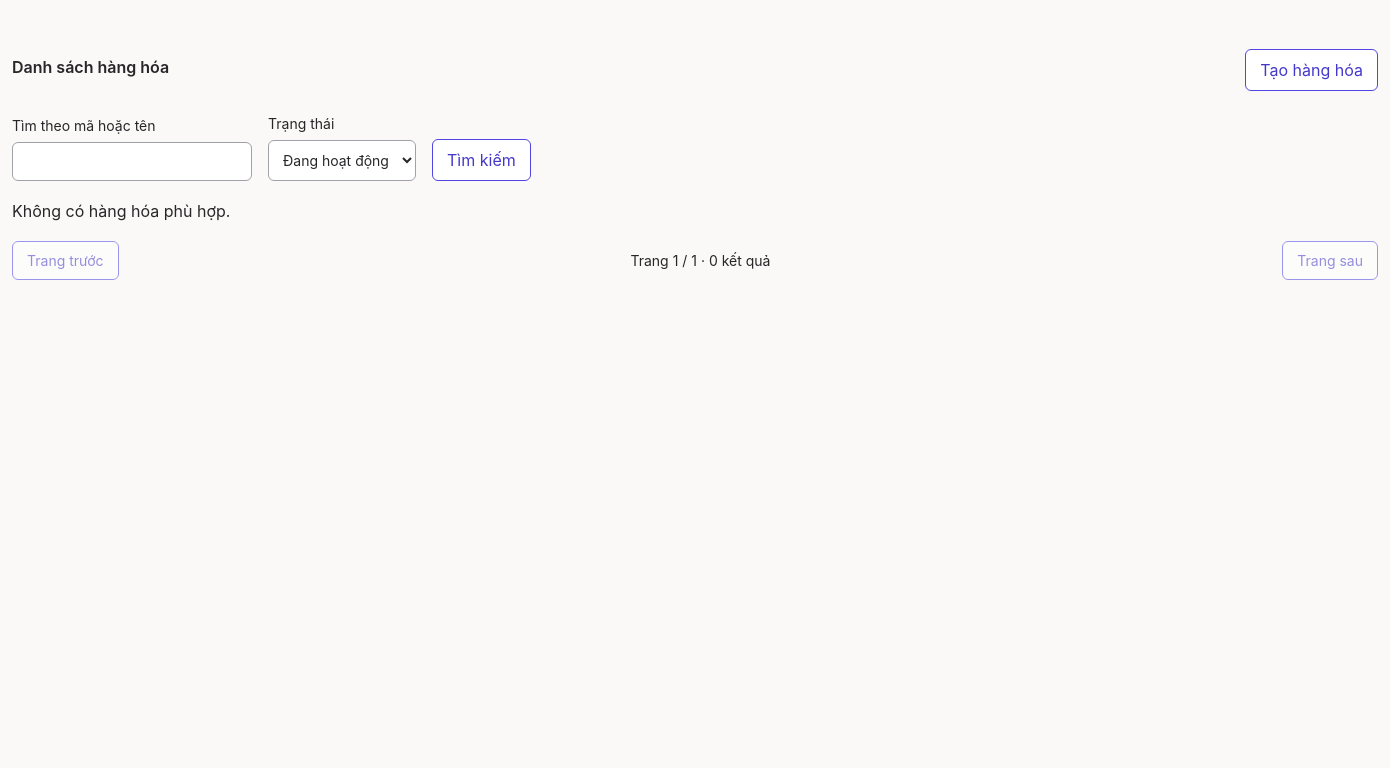
goods supports validation, create, duplicate-submit protection and refresh
Expected: the text "Không có hàng hóa phù hợp." is shown, [12,201,230,221]
Click the button "Tạo hàng hóa".
click(1312, 70)  # box [1245,49,1378,91]
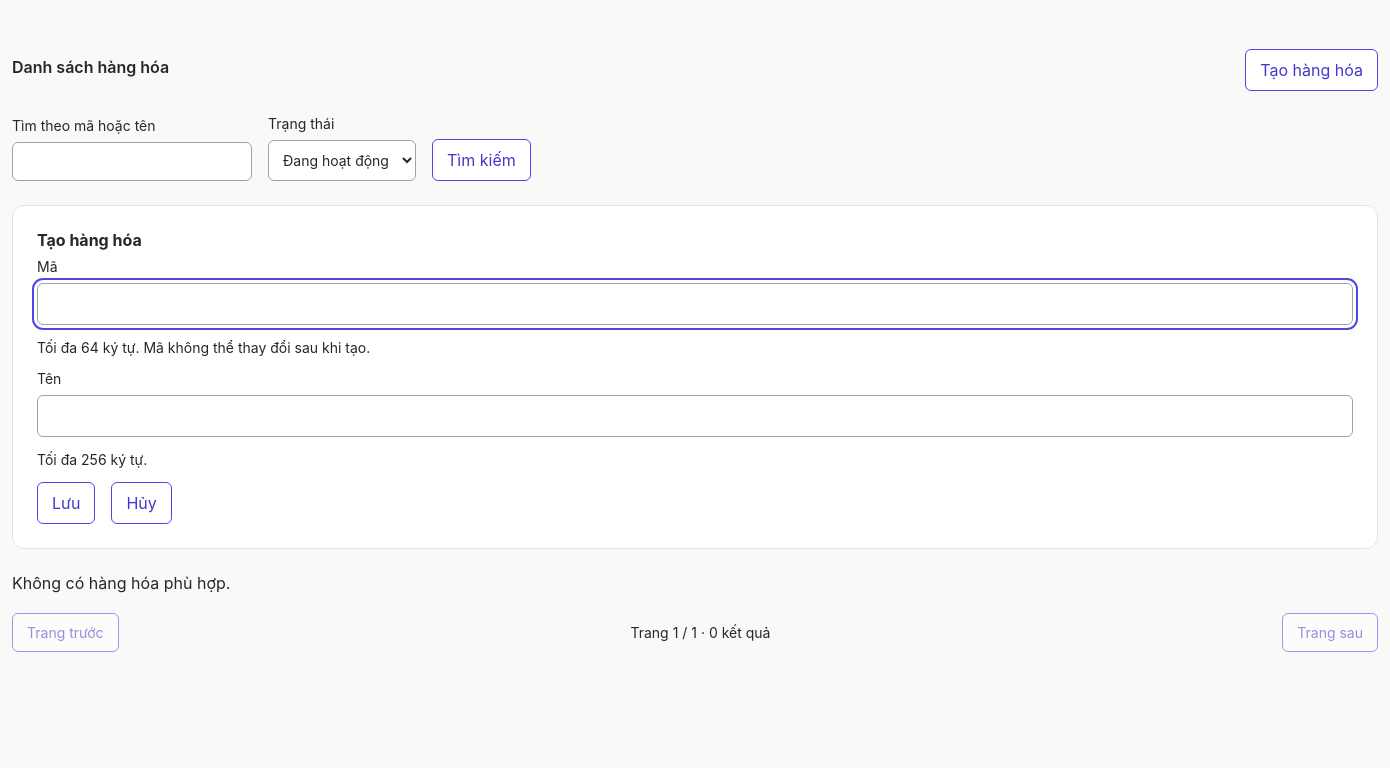
Click the button "Lưu".
click(66, 503)  # box [37,482,95,524]
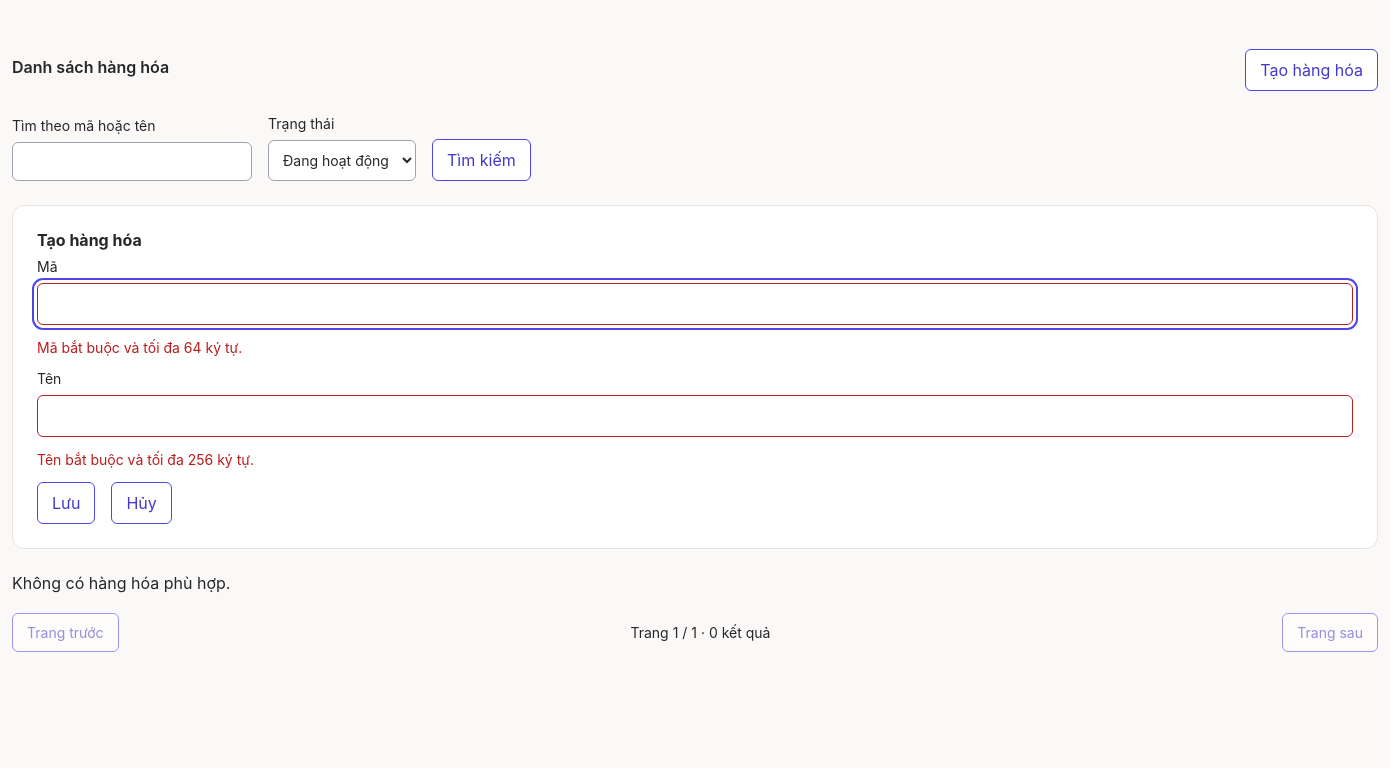
Type " A01 " into the field labelled "Mã".
click(695, 304); type(" A01 ")  # box [37,283,1353,325]
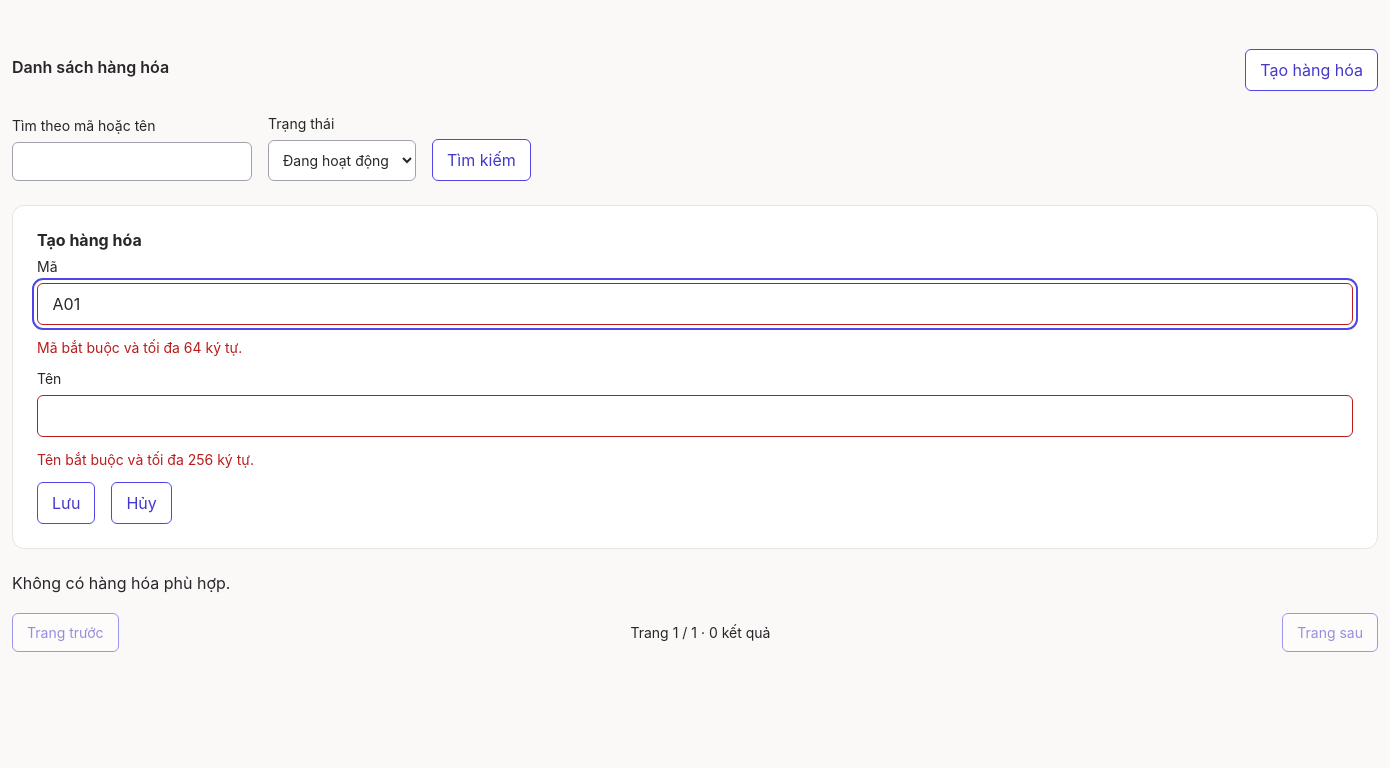
Type " Mặt hàng A " into the field labelled "Tên".
click(695, 416); type(" Mặt hàng A ")  # box [37,395,1353,437]
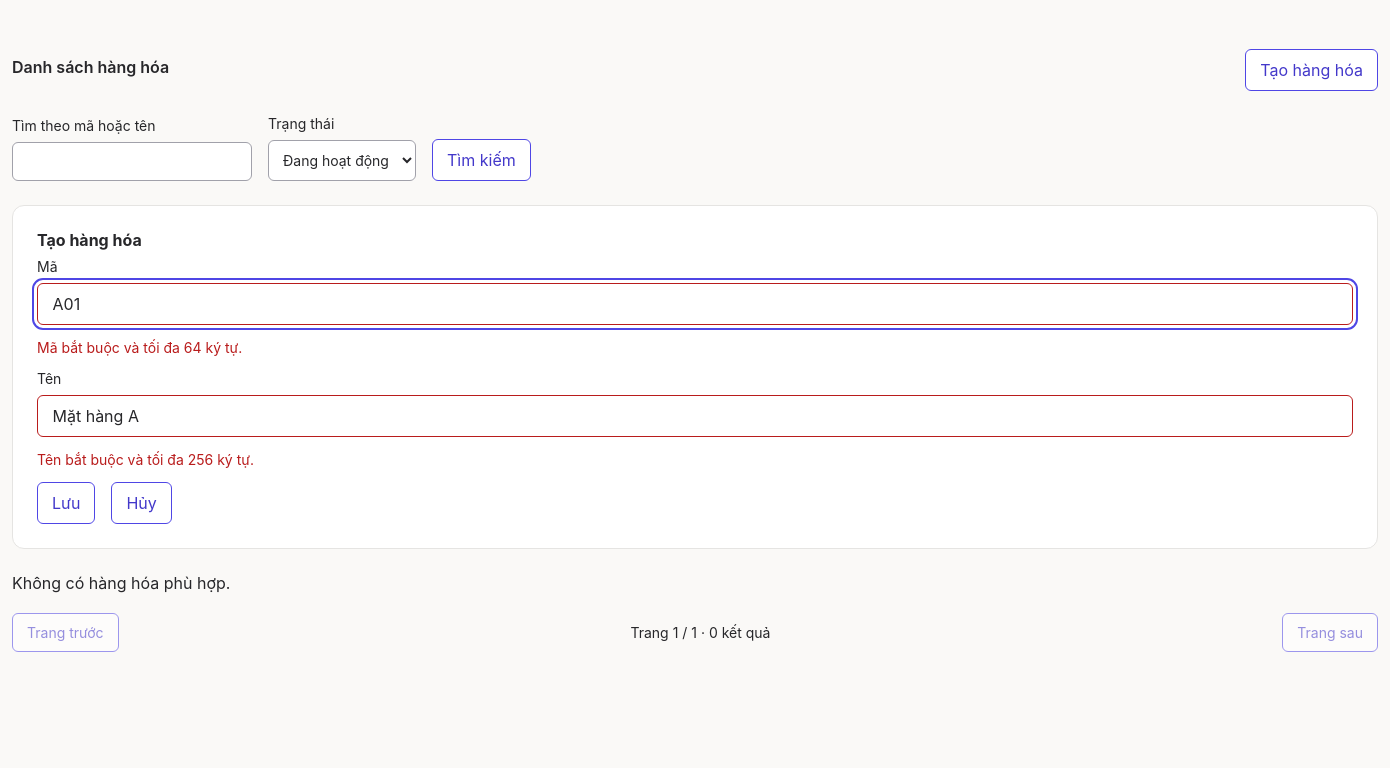
Click the button "Lưu".
click(66, 503)  # box [37,482,95,524]
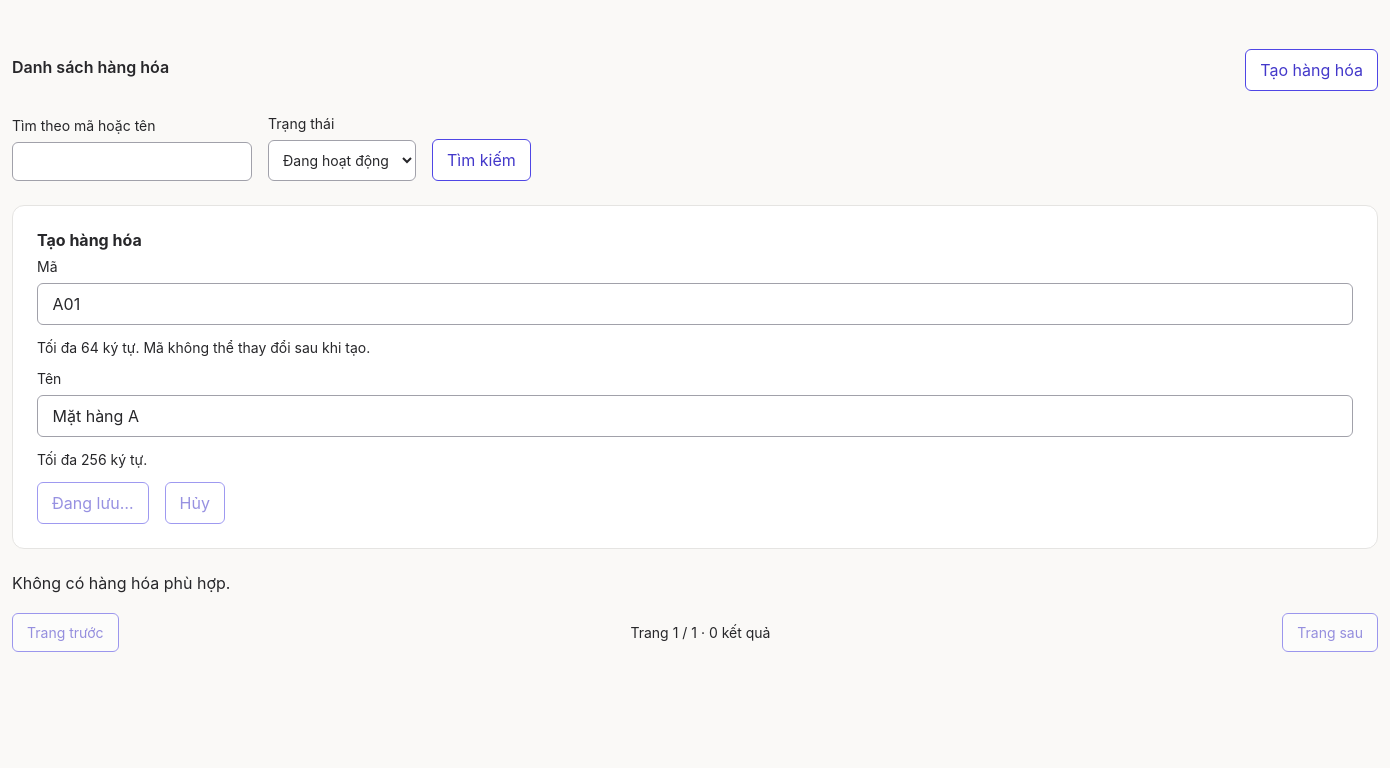
Now the button "Đang lưu…" is disabled, box [37,482,149,524]
Submit the form "Tạo hàng hóa", box [12,205,1378,549]
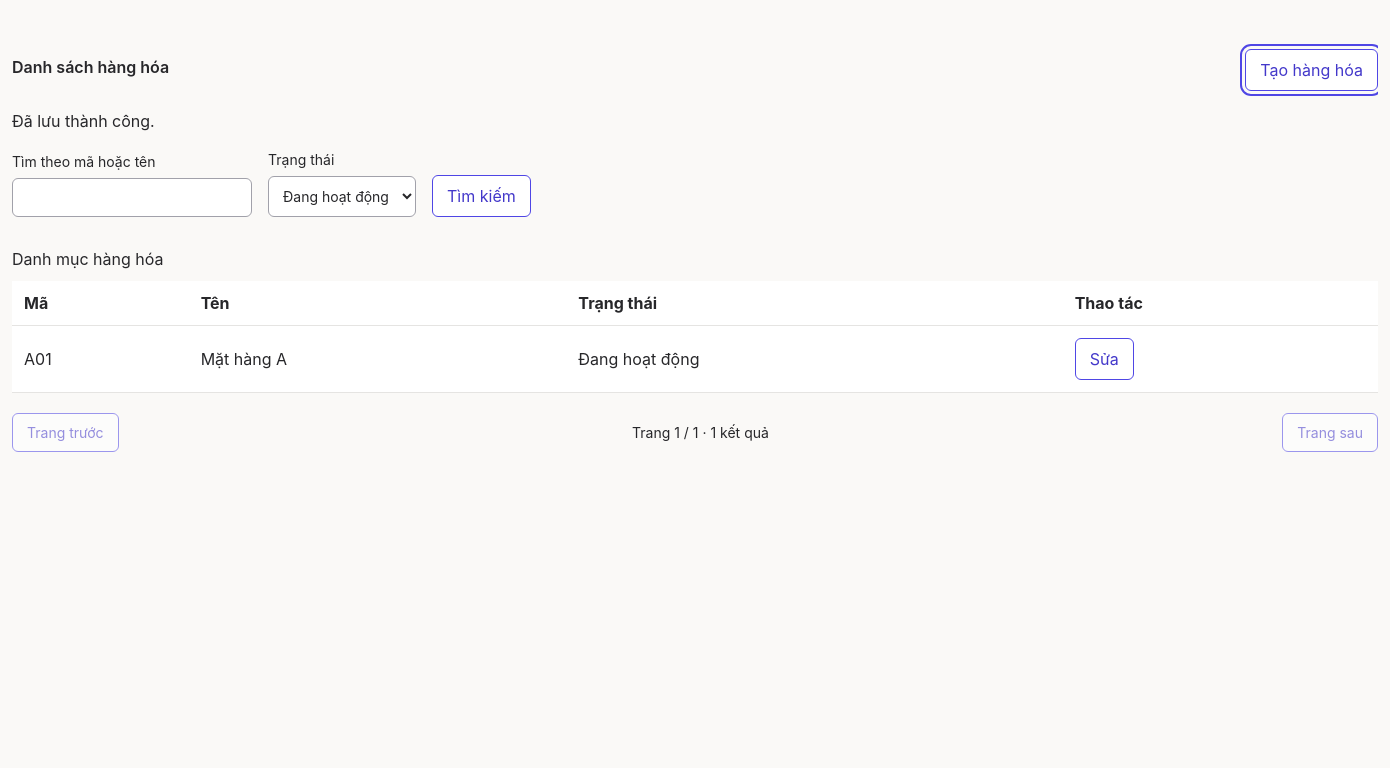
Now the text "Đã lưu thành công." is shown, box [12,111,155,131]
Now the text "Mặt hàng A" is shown, box [189,326,566,393]
